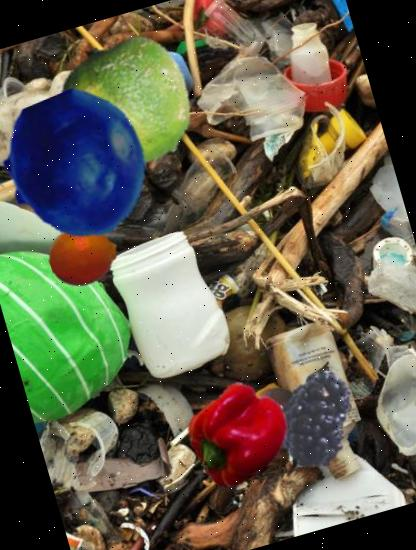Hazelnut: (248, 371, 323, 446)
Huckleberry: (0, 74, 167, 256)
Limes: (49, 22, 211, 184)
Mulberry: (256, 360, 376, 478)
Pepper: (176, 371, 302, 496)
Tangelo: (40, 212, 128, 299)
